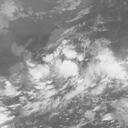cyclone: (37, 39, 102, 102)
